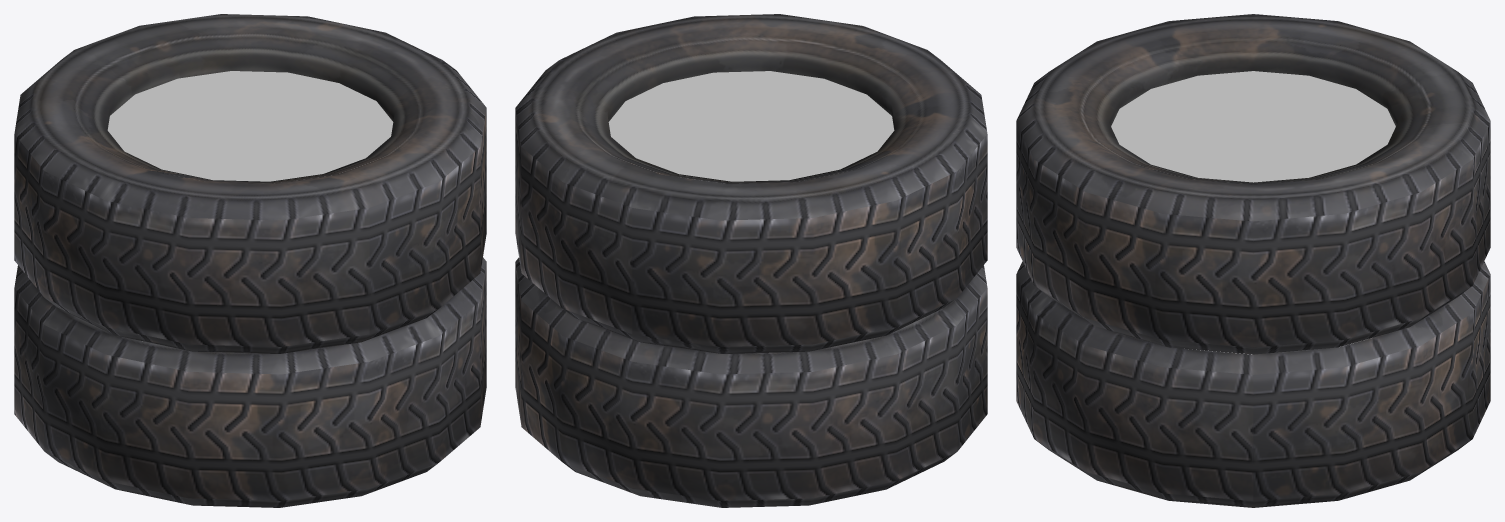
Rendered from raisedBed_tire02.fbx.
3 views of the same model, side by side, from view 1: azimuth 30°, elevation 25°; view 2: azimuth 150°, elevation 25°; view 3: azimuth 270°, elevation 25° (orthographic).
Parts seen in each view (by area): view 1: raisedBed_tire02; view 2: raisedBed_tire02; view 3: raisedBed_tire02.
Part boxes in pixels (<box>): raisedBed_tire02: <box>14,14,486,507</box>; raisedBed_tire02: <box>515,14,987,507</box>; raisedBed_tire02: <box>1016,14,1490,507</box>.
Size of the model in its own units: 68.84 by 49.1 by 68.84.
